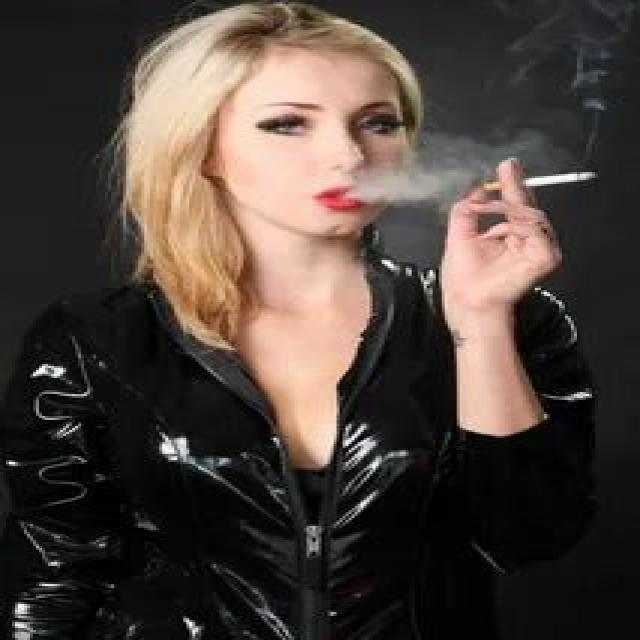cigarette: (472, 166, 616, 196)
